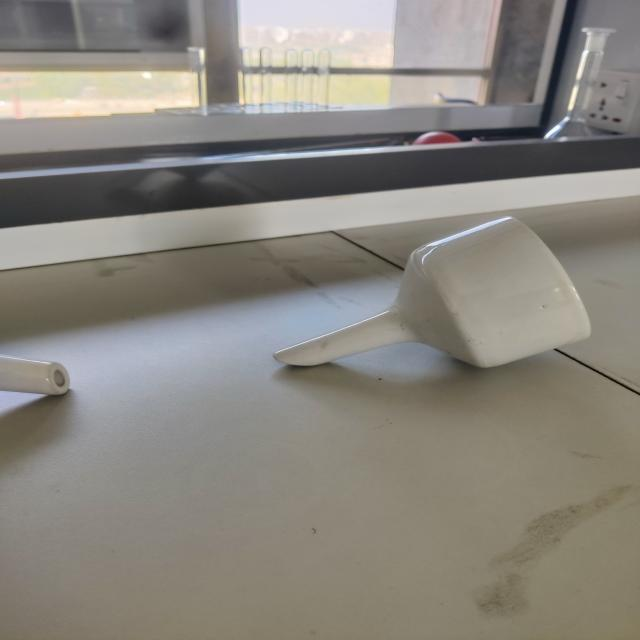Buchner_Funnel: (248, 197, 620, 430)
